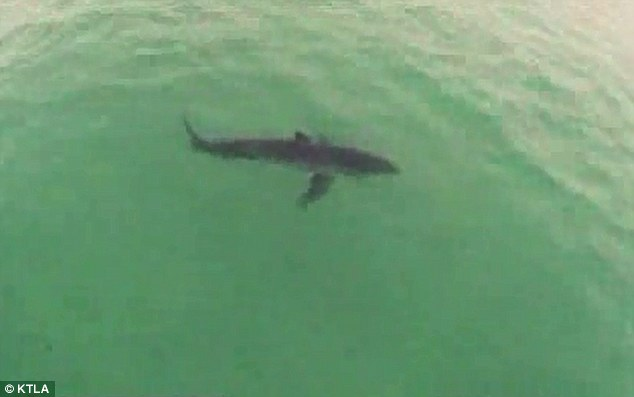shark: (174, 112, 410, 211)
